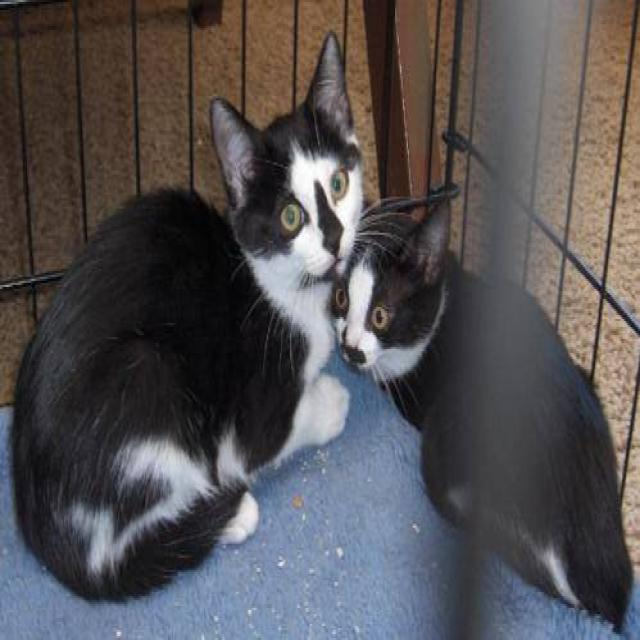cat: (9, 28, 366, 602), (331, 189, 633, 632)
